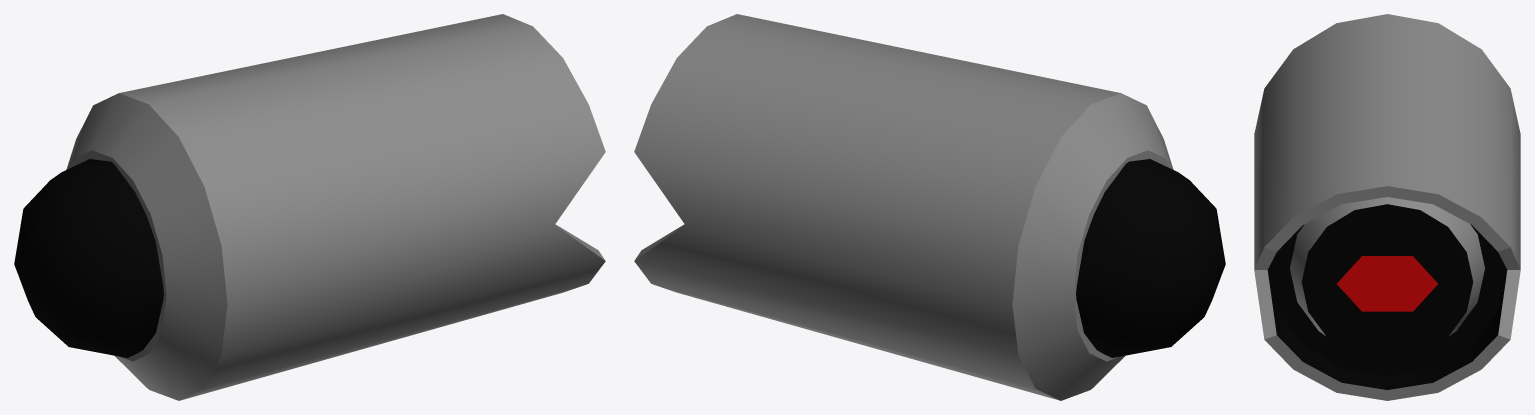
File: SM_Camera.fbx
3 renders of one model, left to right at view 1: azimuth 30°, elevation 25°; view 2: azimuth 150°, elevation 25°; view 3: azimuth 270°, elevation 25°, orthographic. The views are drawn at different scales.
Visible parts, largest first — view 1: Camera; view 2: Camera; view 3: Camera.
Boxes of the visible parts, bbox=[...] form: Camera: bbox=[14, 14, 605, 400]; Camera: bbox=[634, 14, 1225, 400]; Camera: bbox=[1254, 14, 1520, 400].
Size of the model in its own units: 84.15 by 45.65 by 45.65.
